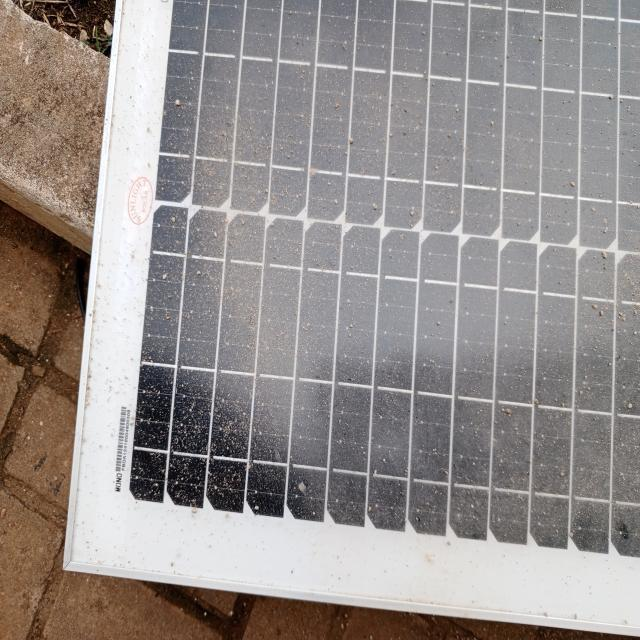Anomaly Solar Panel: (131, 5, 640, 579)
Surface Contaminant: (152, 4, 639, 551)
